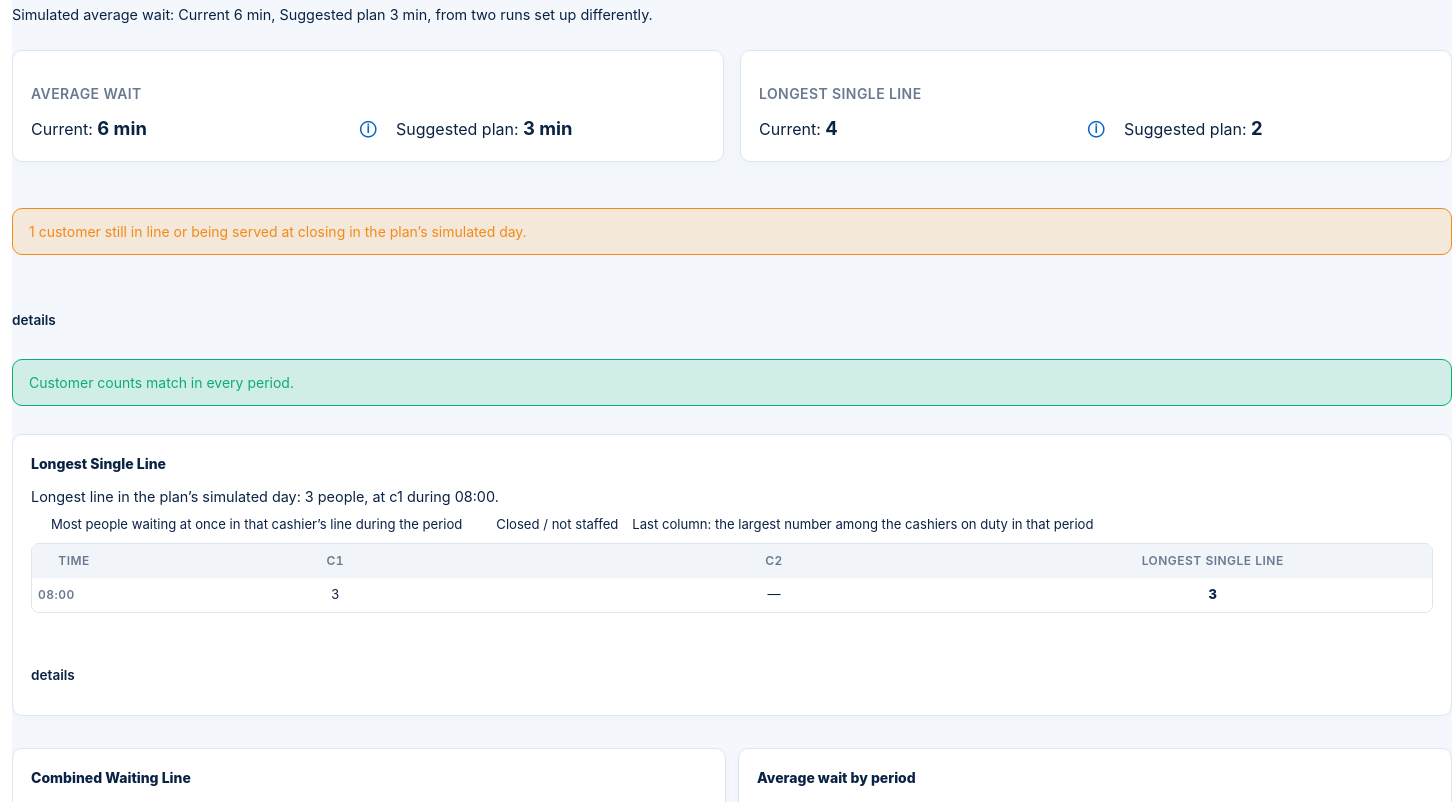
Test: Key Results cards (B5) › explains the different basis for a continuous plan day without breaks (separate lines)
Hover over the button named "Why these are not the same basis": (368, 127) [352,111,384,143]
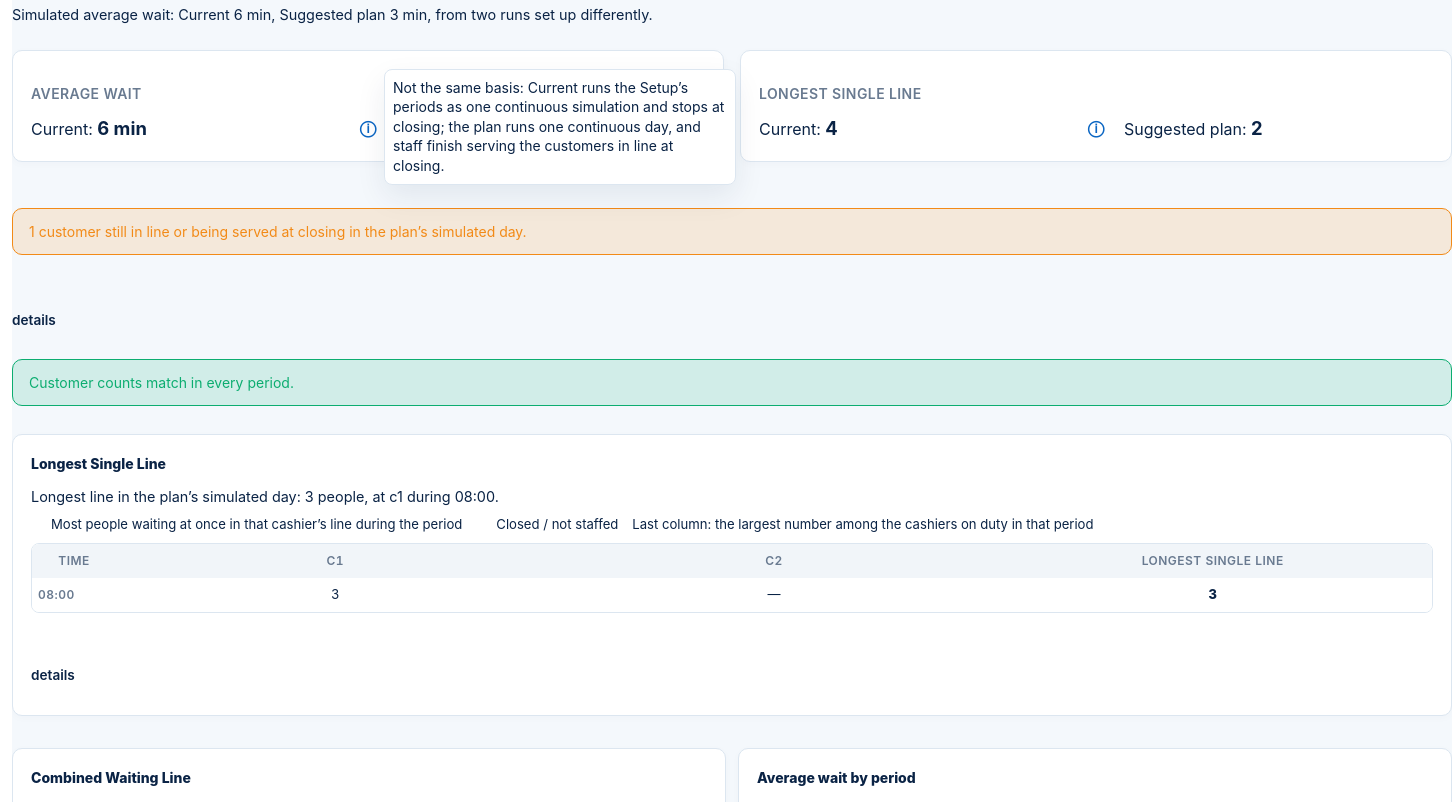
Check: the tooltip does not show "one period at a time", box [384,69,736,185]
Check: the tooltip shows "Not the same basis: Current runs the Setup’s periods as one continuous simulation and stops at closing; the plan runs one continuous day, and staff finish servi", box [393,79,724,174]
